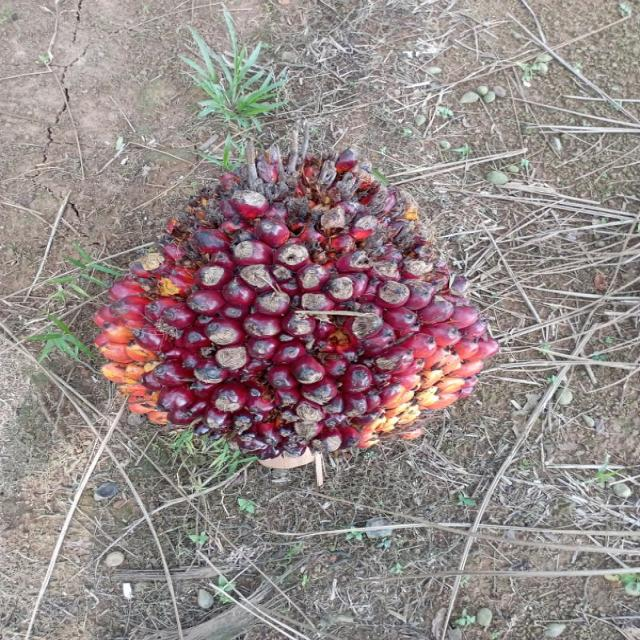fraksi 1: (74, 144, 524, 483)
